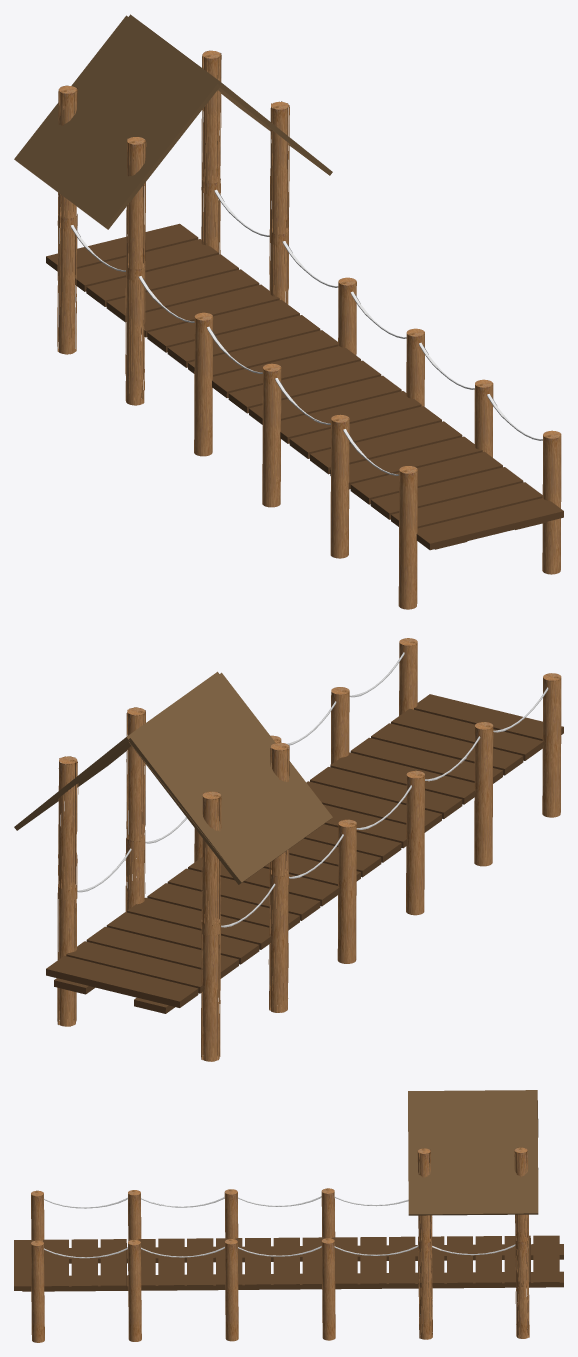
File: pier.zfix-v14.lod0.glb
3 views of the same model, one above another, from view 1: azimuth 30°, elevation 25°; view 2: azimuth 150°, elevation 25°; view 3: azimuth 270°, elevation 25° (orthographic). The views are drawn at different scales.
Parts seen in each view (by area): view 1: Cube.001_Baked_Cube.001_Baked_0, Cylinder.002_Baked_Cylinder.002_Baked_0, Cylinder.001_Baked_Material_0; view 2: Cube.001_Baked_Cube.001_Baked_0, Cylinder.002_Baked_Cylinder.002_Baked_0, Cylinder.001_Baked_Material_0; view 3: Cube.001_Baked_Cube.001_Baked_0, Cylinder.002_Baked_Cylinder.002_Baked_0, Cylinder.001_Baked_Material_0.
Boxes of the visible parts, x1=… form: Cube.001_Baked_Cube.001_Baked_0: x1=14, y1=14, x2=563, y2=550; Cylinder.002_Baked_Cylinder.002_Baked_0: x1=57, y1=50, x2=561, y2=609; Cylinder.001_Baked_Material_0: x1=70, y1=189, x2=542, y2=475; Cube.001_Baked_Cube.001_Baked_0: x1=14, y1=671, x2=563, y2=1013; Cylinder.002_Baked_Cylinder.002_Baked_0: x1=57, y1=638, x2=561, y2=1061; Cylinder.001_Baked_Material_0: x1=77, y1=652, x2=548, y2=927; Cube.001_Baked_Cube.001_Baked_0: x1=14, y1=1090, x2=563, y2=1291; Cylinder.002_Baked_Cylinder.002_Baked_0: x1=31, y1=1147, x2=529, y2=1342; Cylinder.001_Baked_Material_0: x1=44, y1=1196, x2=515, y2=1258.
Bounding box in the file's own units: 8.15 × 10.81 × 24.
3 materials, 1 textured.
